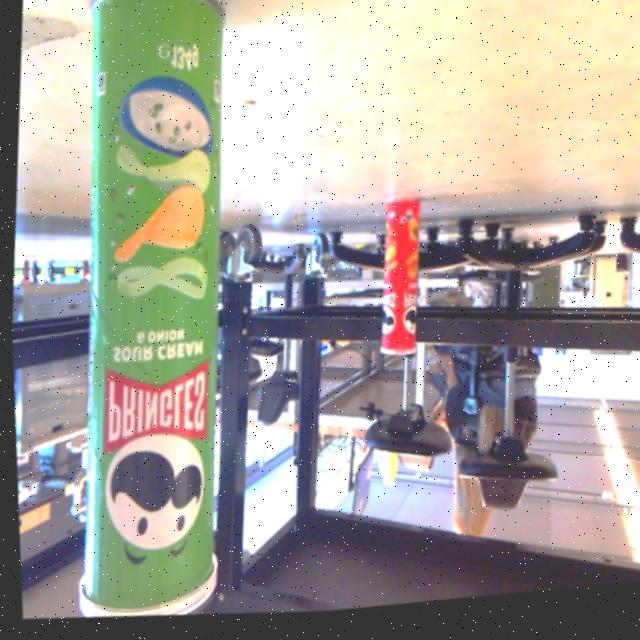greenpringles: (24, 0, 267, 630)
redpringles: (358, 195, 432, 384)
